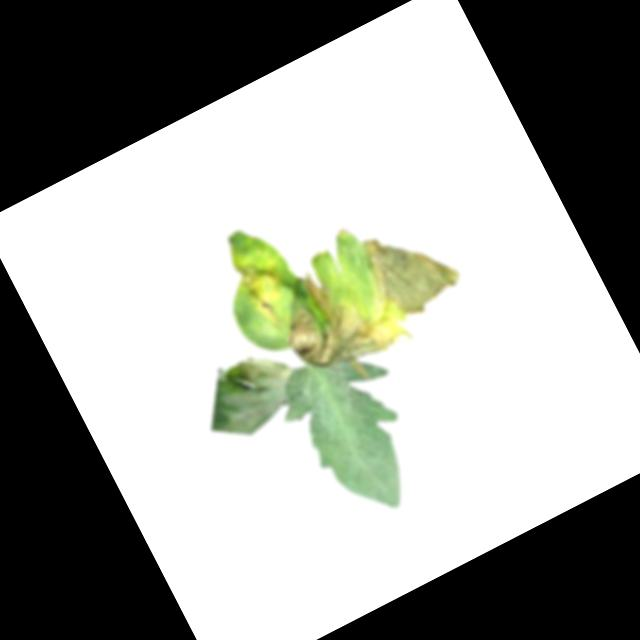Late_blight: (265, 250, 398, 386), (188, 336, 313, 450), (352, 207, 469, 327), (231, 252, 296, 328)
healthy: (267, 331, 449, 537)
